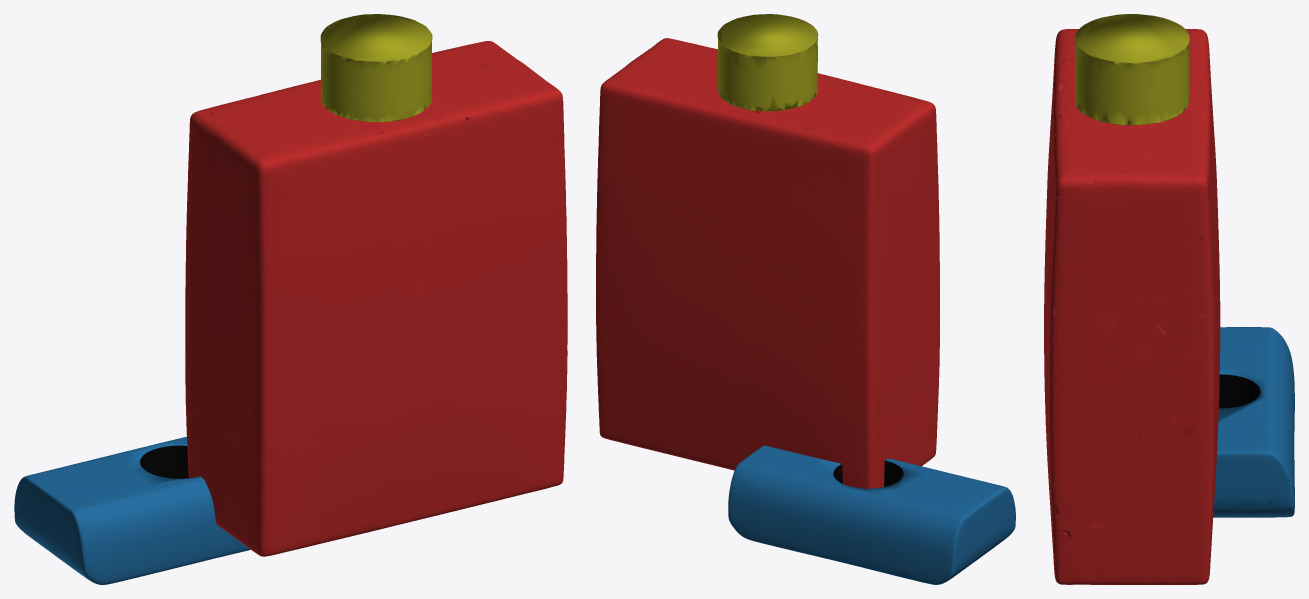
The model's file is temptation-mystic-perforado.glb.
3 renders of one model, left to right at view 1: azimuth 30°, elevation 25°; view 2: azimuth 150°, elevation 25°; view 3: azimuth 270°, elevation 25°, orthographic. The views are drawn at different scales.
Visible parts, largest first — view 1: model_part0, model_part1, model_part2; view 2: model_part0, model_part1, model_part2; view 3: model_part0, model_part1, model_part2.
Boxes of the visible parts, <box> form: model_part0: <box>185,41,567,556</box>; model_part1: <box>14,436,250,584</box>; model_part2: <box>320,14,432,122</box>; model_part0: <box>596,38,939,488</box>; model_part1: <box>728,445,1015,584</box>; model_part2: <box>717,14,818,111</box>; model_part0: <box>1044,29,1220,584</box>; model_part1: <box>1213,327,1294,517</box>; model_part2: <box>1074,14,1189,125</box>.
Bounding box in the file's own units: 0.1037 × 0.111 × 0.0497.
